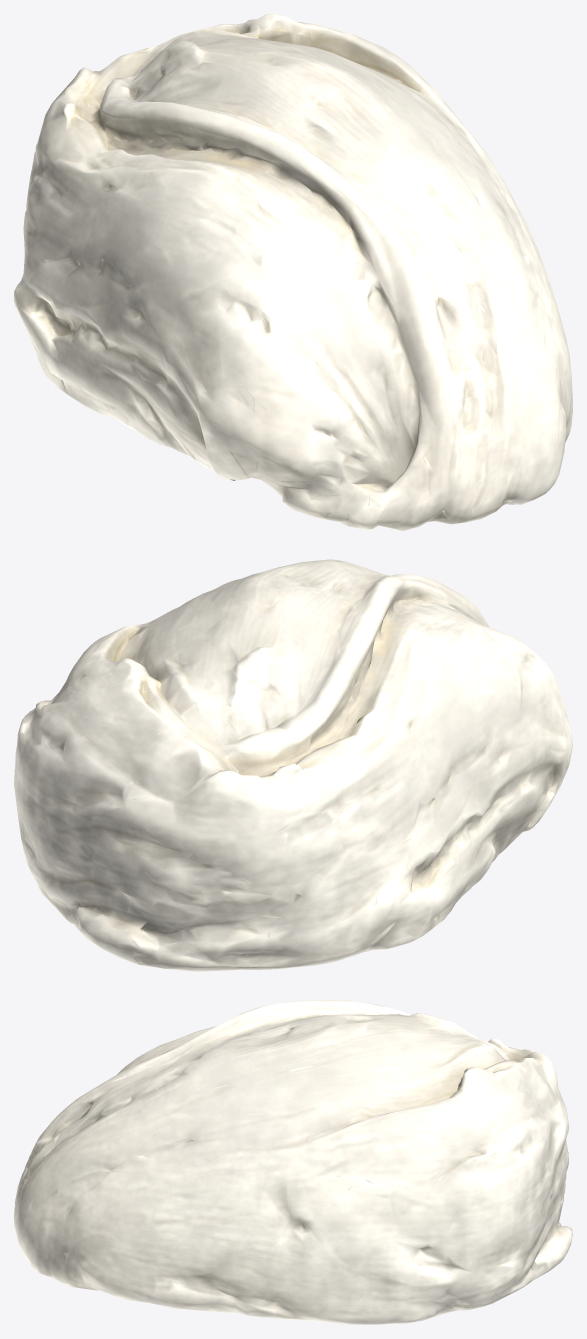
The model's file is Meshy_AI_Whipped_Cream_Scoop_0609084929_texture.fbx.
The picture shows the model from 3 angles, top to bottom: view 1: azimuth 30°, elevation 25°; view 2: azimuth 150°, elevation 25°; view 3: azimuth 270°, elevation 25°; orthographic projection. The views are drawn at different scales.
Parts seen in each view (by area): view 1: Mesh_0; view 2: Mesh_0; view 3: Mesh_0.
Boxes of the visible parts, x1=… form: Mesh_0: x1=14, y1=14, x2=572, y2=530; Mesh_0: x1=14, y1=559, x2=572, y2=971; Mesh_0: x1=14, y1=1000, x2=572, y2=1324.
Size of the model in its own units: 128 by 89.66 by 191.
1 material, 1 textured.
